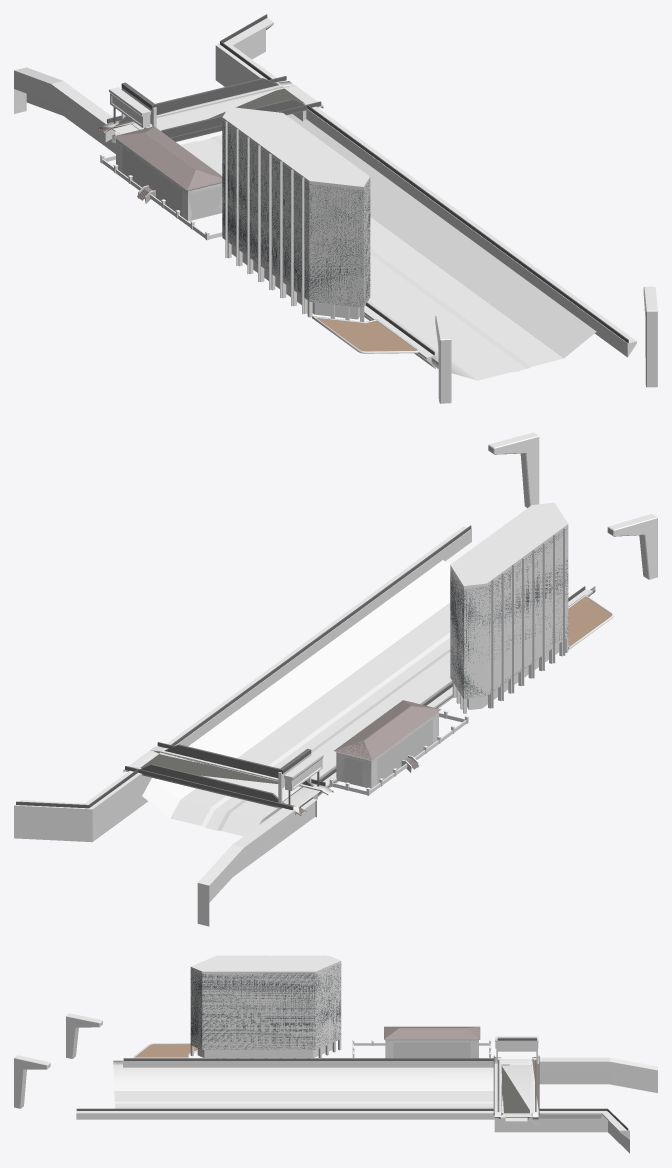
Rendered from offices_canal.dae.
3 renders of one model, top to bottom at view 1: azimuth 30°, elevation 25°; view 2: azimuth 150°, elevation 25°; view 3: azimuth 270°, elevation 25°, orthographic. The views are drawn at different scales.
Parts seen in each view (by area): view 1: Colmesh-1, offices_canal_a500, offices_canal_a2000; view 2: Colmesh-1, offices_canal_a500, offices_canal_a2000; view 3: Colmesh-1, offices_canal_a500, offices_canal_a1000.
Part boxes in pixels (x1,y1,x2,y2): Colmesh-1: (14,14,657,403); offices_canal_a500: (114,88,438,368); offices_canal_a2000: (104,76,437,364); Colmesh-1: (14,432,657,926); offices_canal_a500: (142,529,595,806); offices_canal_a2000: (124,588,593,812); Colmesh-1: (14,955,657,1153); offices_canal_a500: (113,964,531,1117); offices_canal_a1000: (494,1057,538,1119).
Bounding box in the file's own units: 89.19 × 275 × 58.96.
